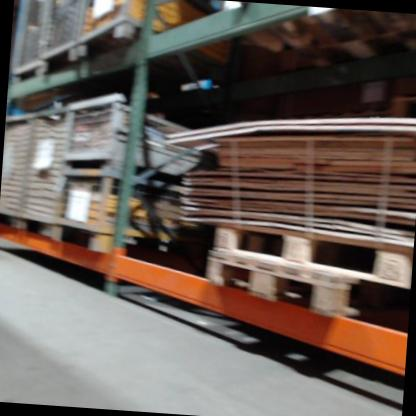pallet: (204, 212, 415, 290), (194, 237, 376, 325)
stillage: (51, 168, 179, 264), (60, 89, 199, 176), (74, 0, 204, 68), (18, 99, 75, 246), (0, 110, 31, 242), (9, 0, 49, 85), (38, 0, 81, 77)
